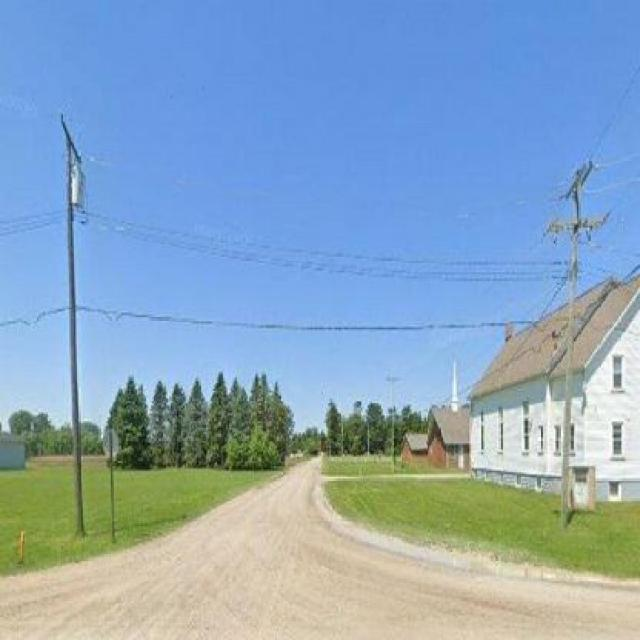pole: (46, 110, 112, 538), (534, 161, 608, 517)
